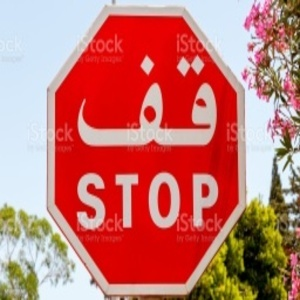stop: (46, 6, 246, 294)
